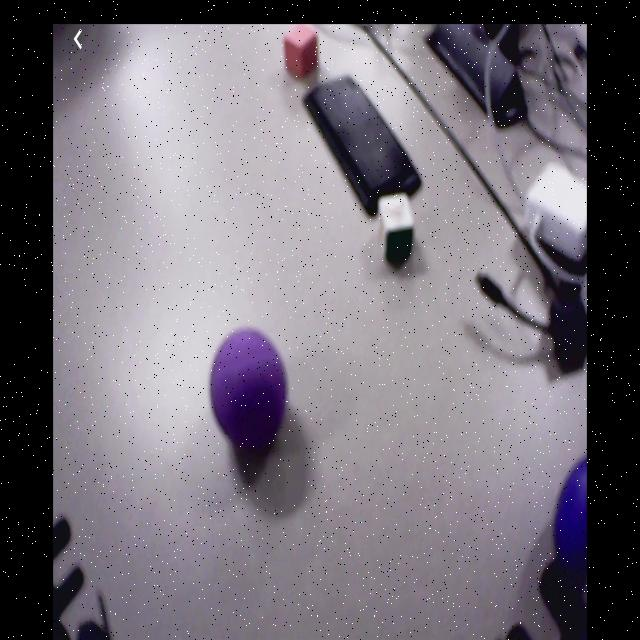ball: (212, 329, 288, 448), (551, 459, 588, 583)
